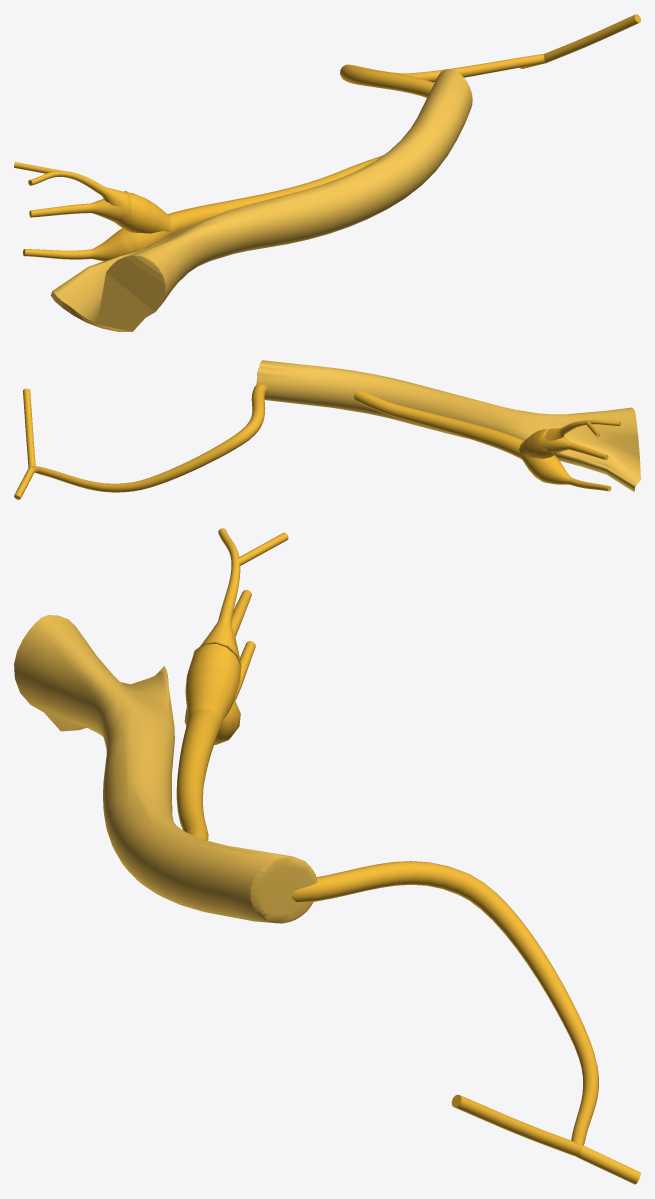
File: nervoso-vestibulocochlear-nerve-viii-r.glb
3 views of the same model, one above another, from view 1: azimuth 30°, elevation 25°; view 2: azimuth 150°, elevation 25°; view 3: azimuth 270°, elevation 25° (orthographic). The views are drawn at different scales.
Visible parts, largest first — view 1: Cochlear nerve, Vestibular nerve.r, Vestibulocochlear nerve (VIII).r; view 2: Cochlear nerve, Vestibular nerve.r, Vestibulocochlear nerve (VIII).r; view 3: Cochlear nerve, Vestibulocochlear nerve (VIII).r, Vestibular nerve.r.
Boxes of the visible parts, x1,y1,x2,y2 form: Cochlear nerve: (50, 69, 472, 331); Vestibular nerve.r: (14, 155, 382, 261); Vestibulocochlear nerve (VIII).r: (340, 14, 640, 97); Cochlear nerve: (256, 360, 640, 491); Vestibular nerve.r: (353, 391, 620, 491); Vestibulocochlear nerve (VIII).r: (14, 384, 267, 499); Cochlear nerve: (14, 615, 317, 923); Vestibulocochlear nerve (VIII).r: (291, 861, 640, 1184); Vestibular nerve.r: (176, 528, 288, 840).
Size of the model in its own units: 0.0334 by 0.00693 by 0.0184.
